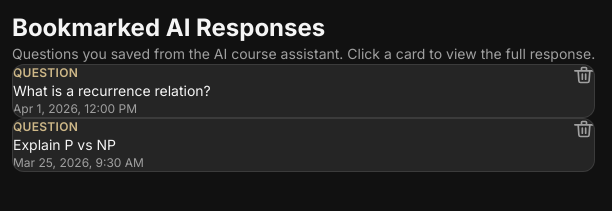
Test case: BookmarkedResources › shows an inline error if the delete request fails, and keeps the bookmark visible
Expected: the text "What is a recurrence relation?" is shown, left=13, top=82, right=211, bottom=99
Click the 1st button named "Remove bookmark" at coordinates (584, 75), box left=574, top=65, right=594, bottom=85
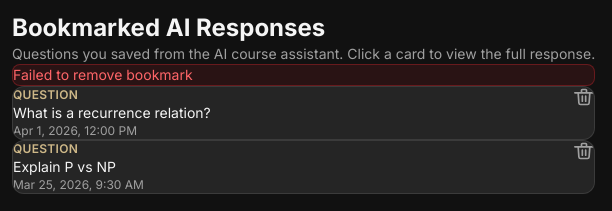
Expected: the text "What is a recurrence relation?" is shown, left=13, top=104, right=211, bottom=121
Result: the text "Failed to remove bookmark" is shown at left=12, top=64, right=595, bottom=86
